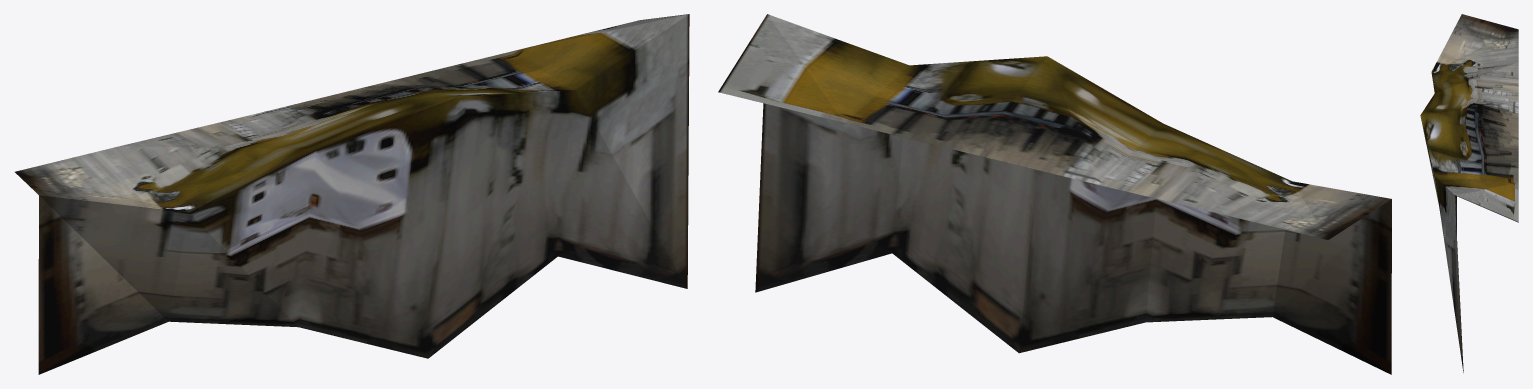
File: Borte_Kurz_1501.glb
3 views of the same model, side by side, from view 1: azimuth 30°, elevation 25°; view 2: azimuth 150°, elevation 25°; view 3: azimuth 270°, elevation 25° (orthographic). The views are drawn at different scales.
Parts seen in each view (by area): view 1: pPlaneShape180; view 2: pPlaneShape180; view 3: pPlaneShape180.
Part boxes in pixels (x1,y1,x2,y2): pPlaneShape180: [15, 14, 689, 374]; pPlaneShape180: [718, 14, 1391, 374]; pPlaneShape180: [1420, 14, 1518, 372].
Bounding box in the file's own units: 0.5011 × 0.2082 × 0.1037.
1 material, 1 textured.
